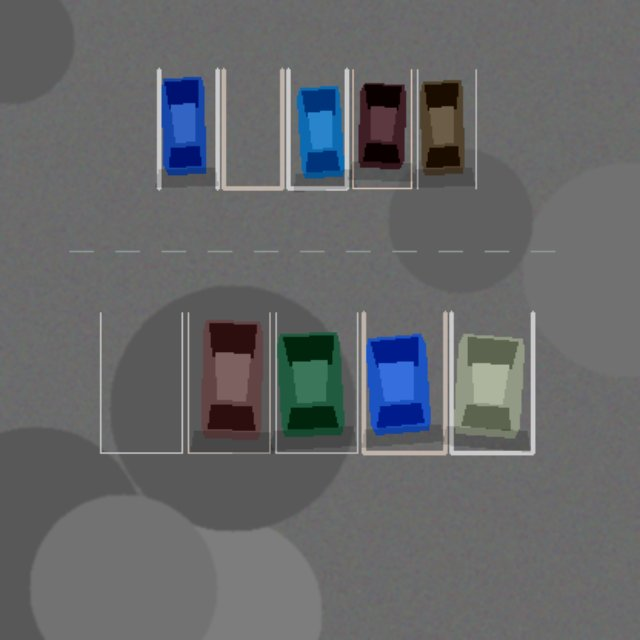space-empty: (100, 312, 182, 452), (223, 69, 282, 188)
space-occupied: (275, 312, 357, 452), (363, 312, 445, 452), (188, 312, 269, 452), (451, 312, 532, 452), (158, 69, 217, 188), (352, 69, 411, 188), (288, 69, 346, 188), (417, 69, 475, 188)
